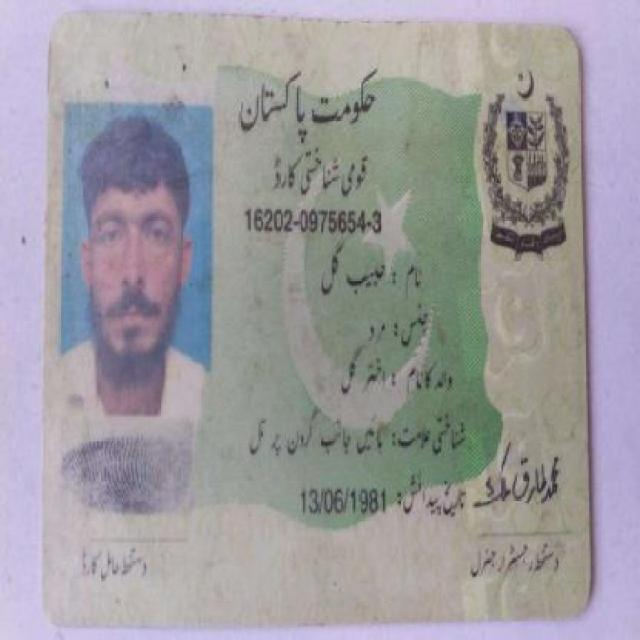Front: (41, 6, 594, 625)
